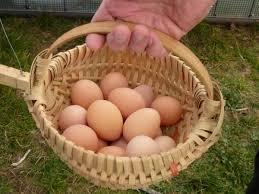egg: (124, 105, 165, 142), (88, 102, 123, 139), (150, 92, 183, 126), (105, 86, 144, 112), (68, 76, 99, 108), (62, 123, 97, 149), (58, 104, 90, 130), (101, 70, 132, 95), (126, 137, 155, 156)
